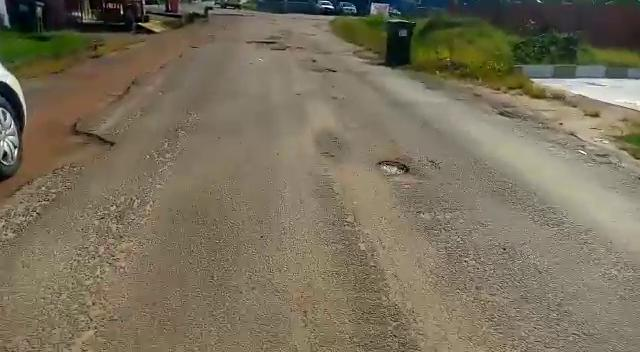pothole: (372, 157, 421, 180)
